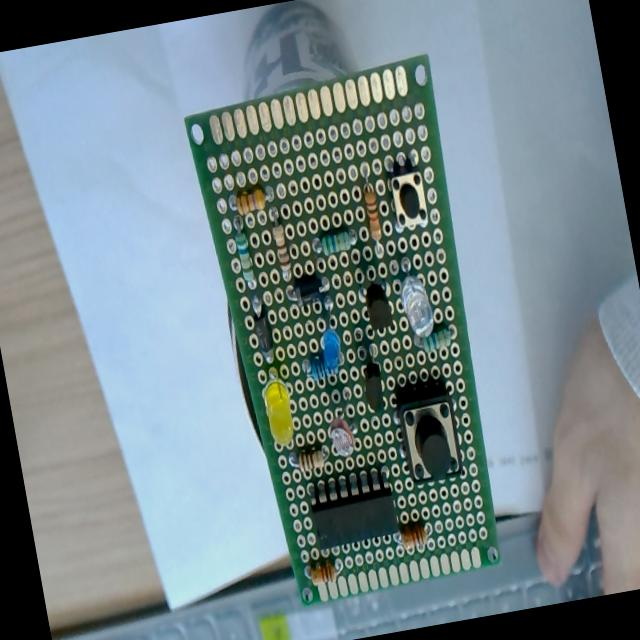IC: (308, 466, 401, 554)
cds: (322, 390, 366, 458)
diode: (290, 270, 328, 308), (252, 310, 274, 356)
led: (396, 272, 436, 341), (261, 378, 297, 449), (318, 326, 345, 374)
resistor: (359, 171, 384, 247), (234, 230, 256, 284), (272, 224, 292, 274), (235, 186, 267, 215), (320, 228, 353, 256), (419, 326, 452, 354), (294, 446, 326, 474), (399, 522, 428, 552), (308, 560, 338, 586)
switch: (392, 378, 464, 486), (382, 152, 430, 234)
transistor: (352, 264, 398, 338), (356, 344, 394, 424)
